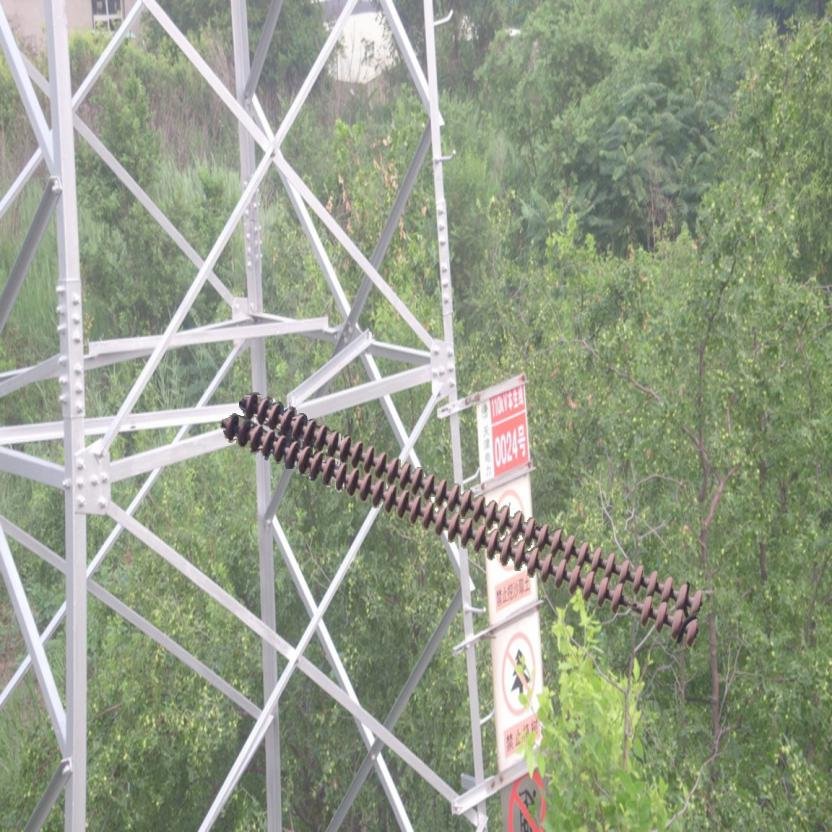defect: (606, 580, 654, 627)
